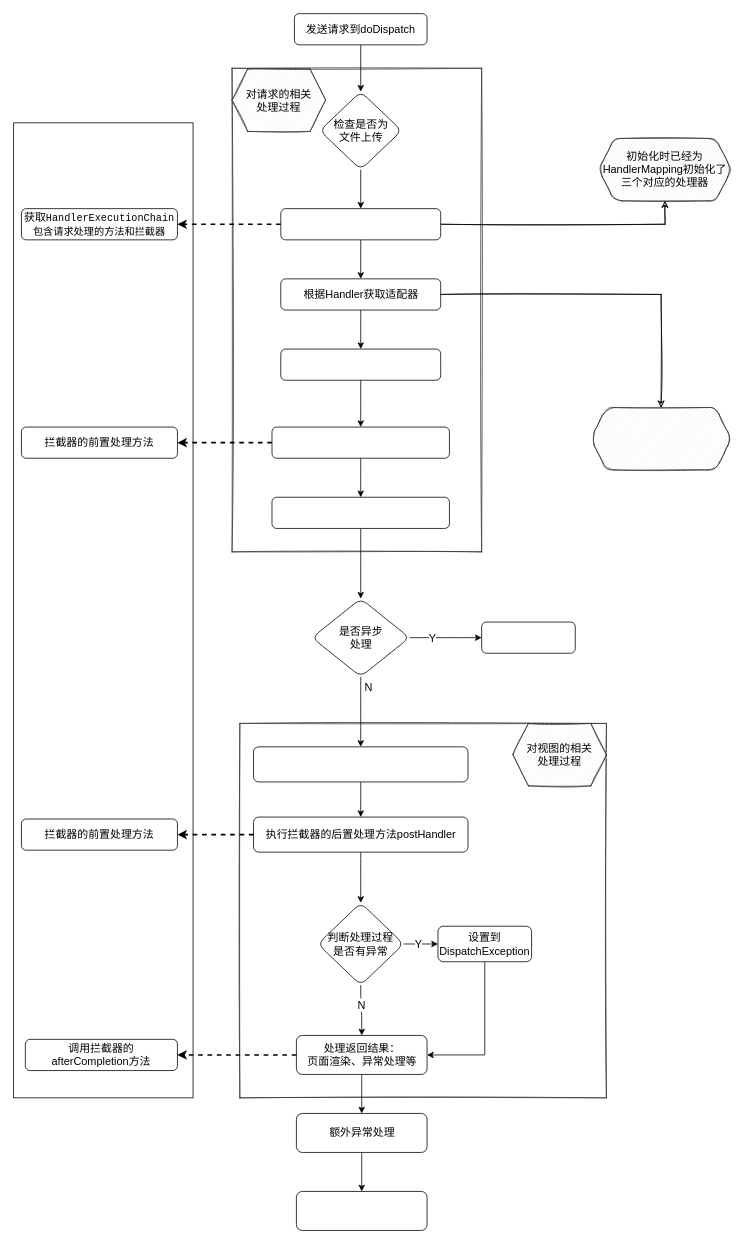
Some shapes in this 745 by 1244 pixel diagram are drawn without their labels. Each missing label, with the centre of its shape:
使用适配器来处理匹配到的Controller的指定方法: the point at 360,512
初始化时已经为HandlerAdapter初始化了三个对应的处理器适配器: the point at 660,438
处理当前请求中的last modifier: the point at 360,364
如果视图名称为空，则设置默认的视图名称: the point at 360,764
执行获取的拦截器的前置处理方法 preHandler: the point at 360,442
根据request获取Handler: the point at 360,224
直接返回: the point at 528,637
释放资源: the point at 361,1210
